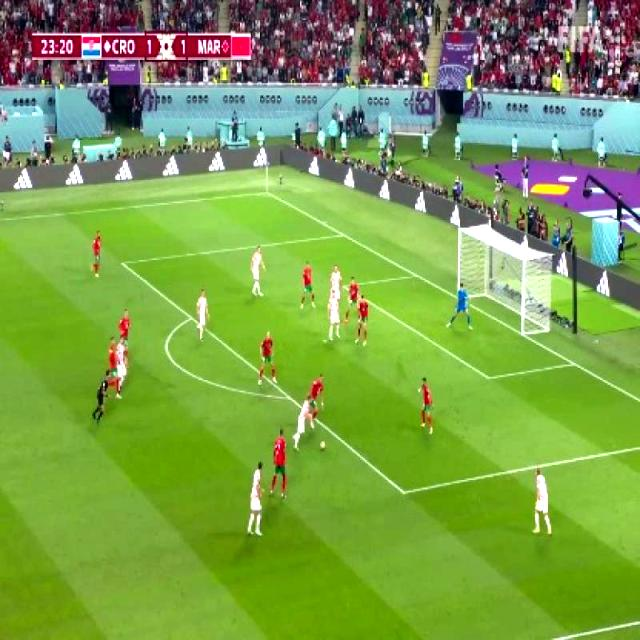bigarea_bottom_inner: (396, 479, 410, 504)
bigarea_top_inner: (115, 254, 128, 271)
bigarea_top_outter: (337, 230, 346, 240)
bottom_arc_area_intersection: (283, 389, 294, 406)
corner: (260, 190, 270, 197)
smallarea_bottom_inner: (481, 368, 496, 388)
smallarea_bottom_outter: (568, 356, 580, 370)
smallarea_top_outter: (410, 268, 420, 282)
top_arc_area_intersection: (184, 310, 196, 324)
